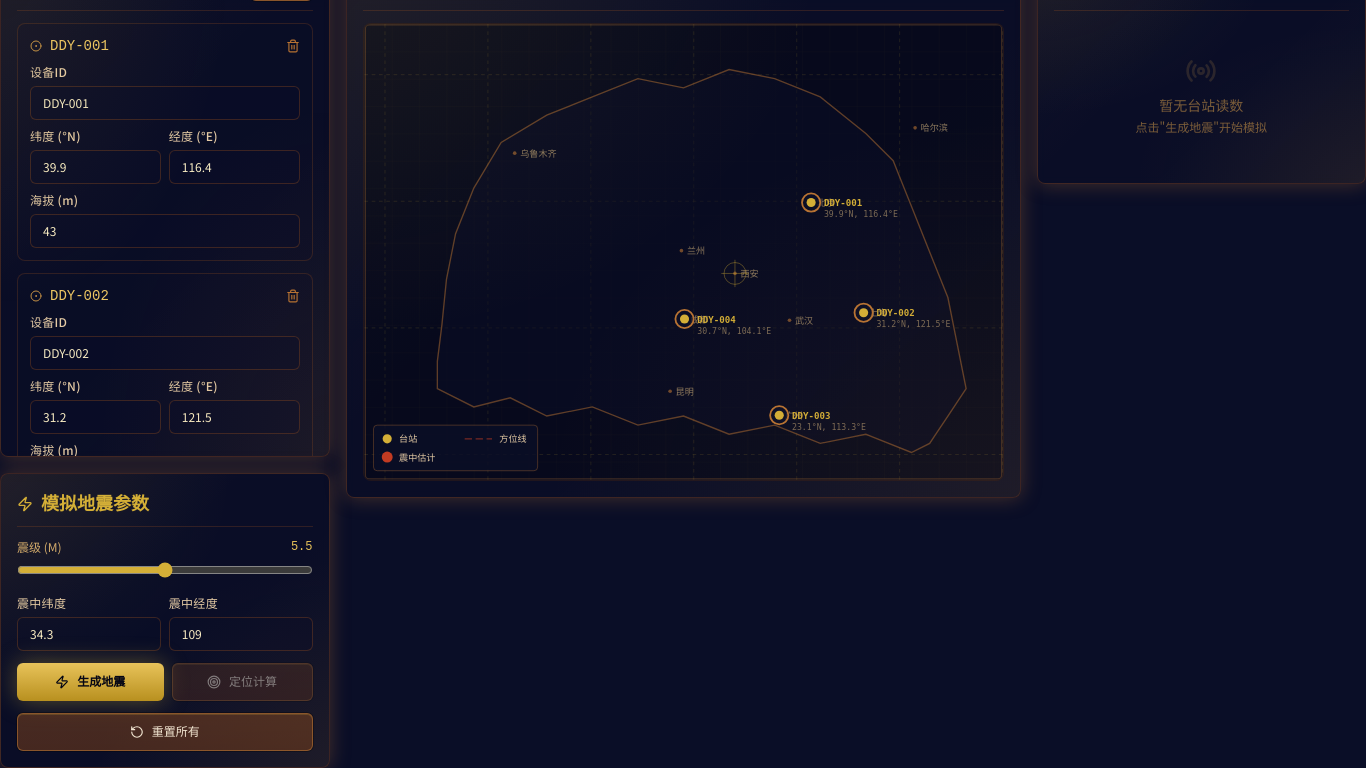
it: NetworkLocalization 地震台网定位 › 边界场景（6个） › TC-B-5 震级参数边界：改变震级值为9.0（上限）不崩溃
(page scrolled)
Set the slider to "8" at (304, 570), box [17,562,312,578]
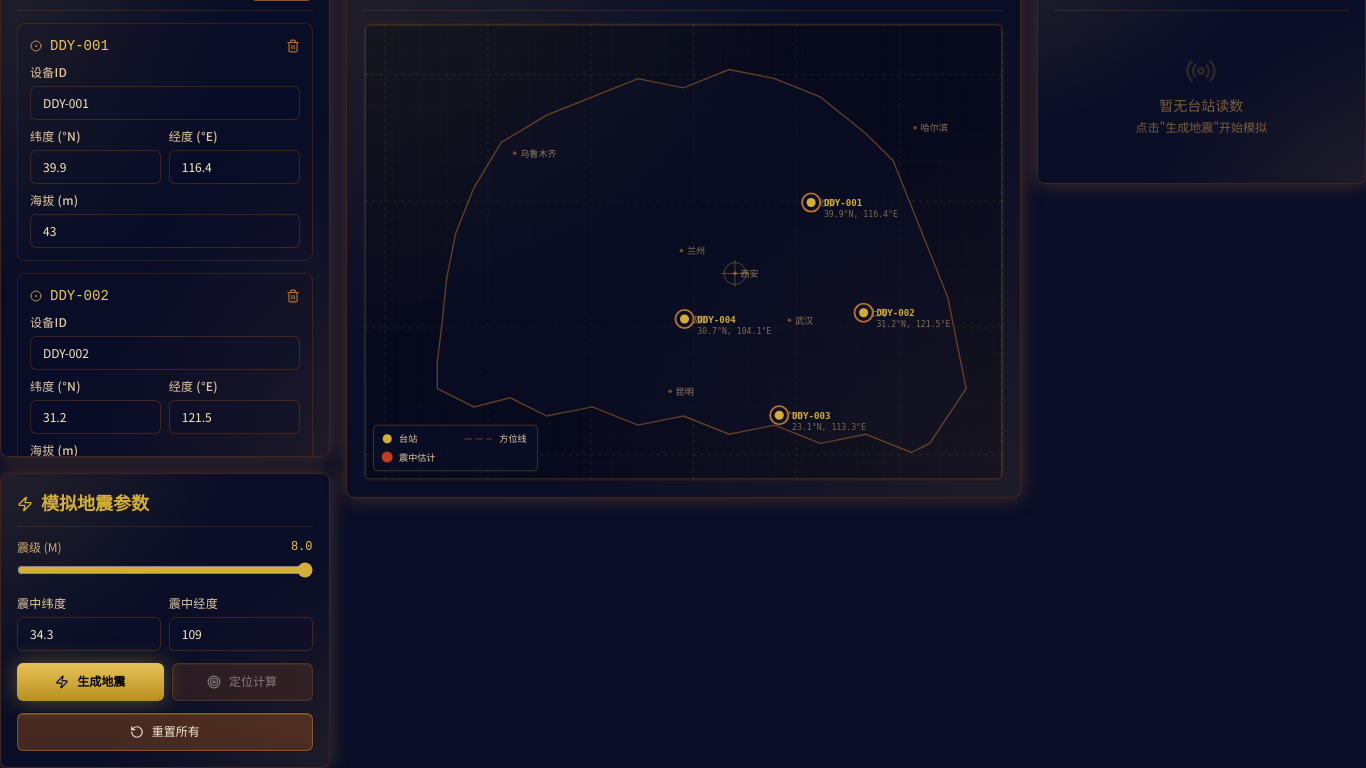
Check: the text "模拟地震参数" is shown, box [41,490,149,518]
Check: the text "8.0" is shown, box [291,539,312,555]
